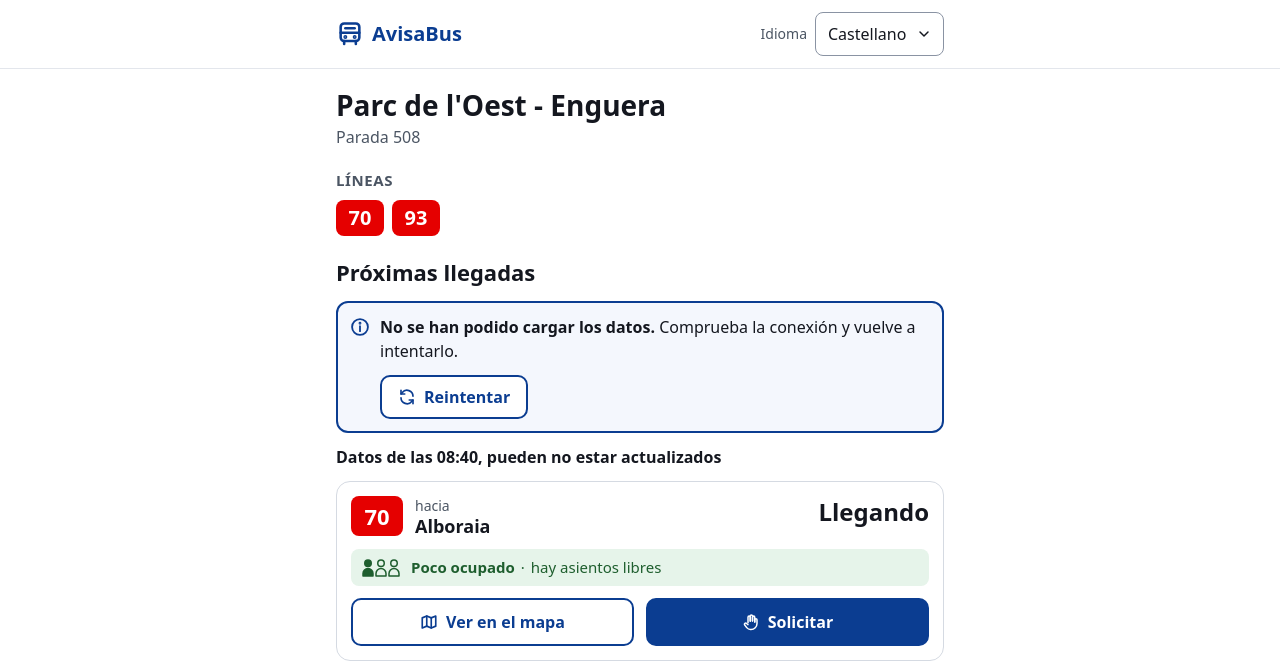
Test: StopPage errors and connectivity › [passenger_stop_view.AC-17] keeps the previous data marked as possibly outdated when a refresh fails (es)
Expected: the text "Datos de las 08:40, pueden no estar actualizados" is shown, x1=336 y1=445 x2=721 y2=469
Step 1. Click the button "Reintentar" → (454,397), box x1=380 y1=375 x2=528 y2=419
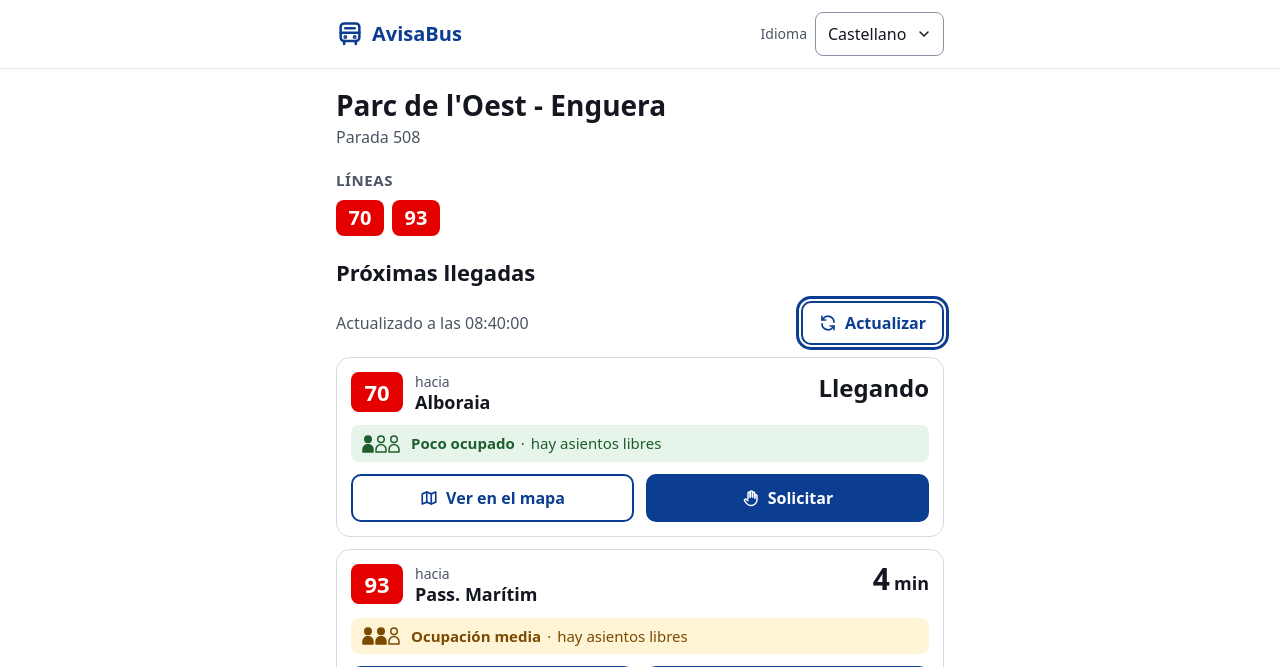
Result: the text "Datos de las 08:40, pueden no estar actualizados" is gone
